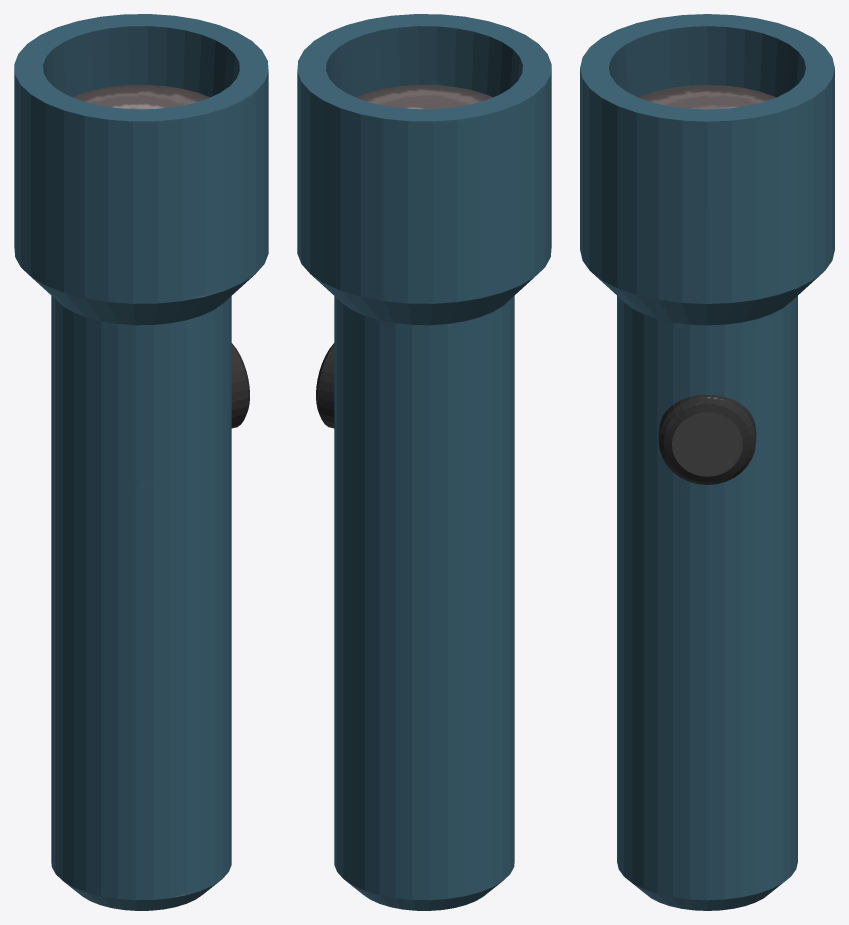
The model's file is flashlight model with texture.fbx.
3 views of the same model, side by side, from view 1: azimuth 30°, elevation 25°; view 2: azimuth 150°, elevation 25°; view 3: azimuth 270°, elevation 25° (orthographic).
Visible parts, largest first — view 1: Cylinder; view 2: Cylinder; view 3: Cylinder.
Boxes of the visible parts, left/top/right/bottom form: Cylinder: left=14, top=14, right=268, bottom=910; Cylinder: left=297, top=14, right=551, bottom=910; Cylinder: left=580, top=14, right=834, bottom=910.
Size of the model in its own units: 282 by 993 by 282.
1 material, 1 textured.
